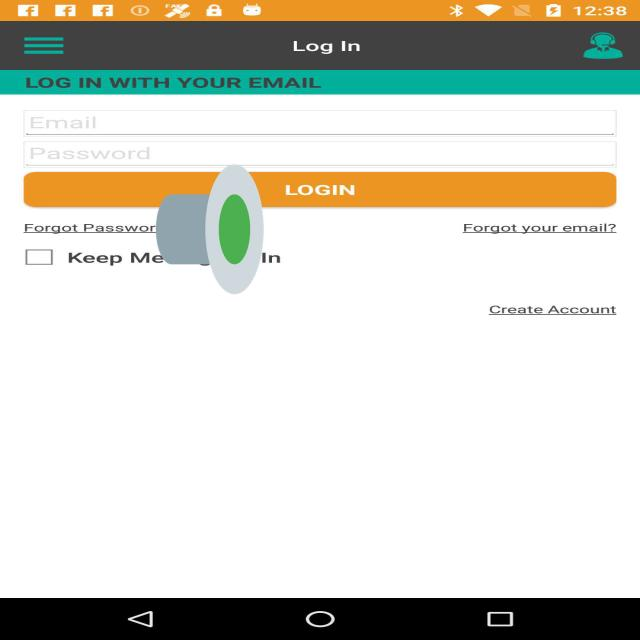social proof: (156, 110, 264, 350)
